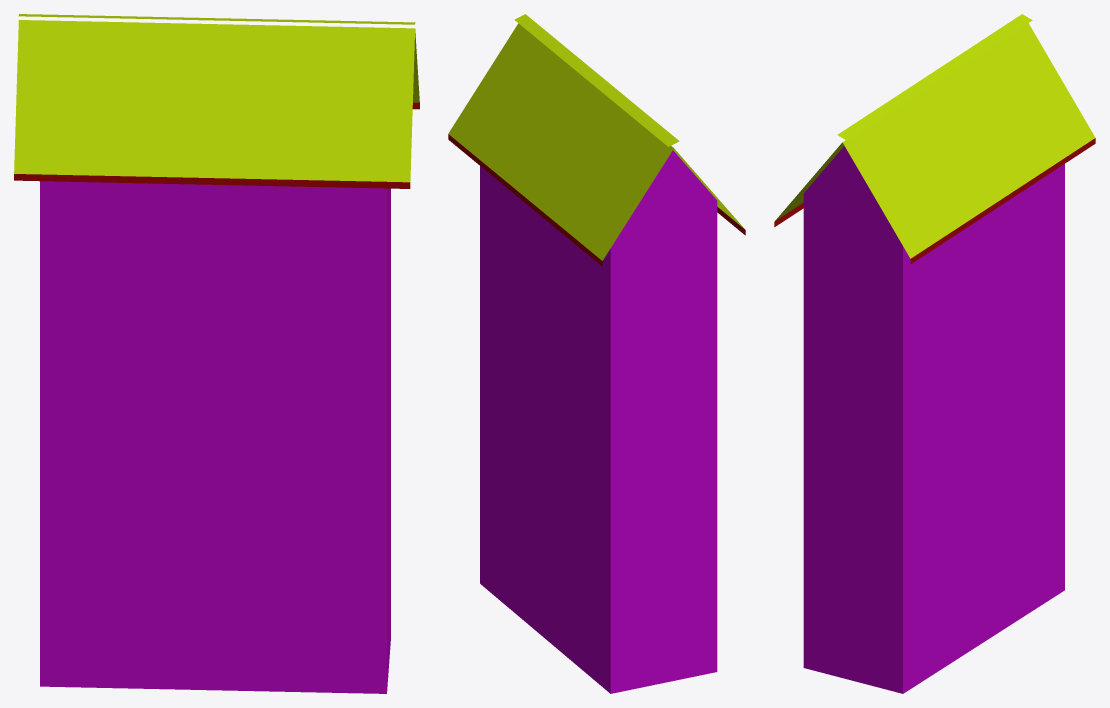
3 renders of one model, left to right at view 1: azimuth 30°, elevation 25°; view 2: azimuth 150°, elevation 25°; view 3: azimuth 270°, elevation 25°, orthographic. The views are drawn at different scales.
Visible parts, largest first — view 1: sc_122; view 2: sc_122; view 3: sc_122.
Boxes of the visible parts, x1,y1,x2,y2 form: sc_122: (14, 14, 419, 693); sc_122: (448, 14, 745, 693); sc_122: (774, 14, 1095, 693).
Size of the model in its own units: 7.04 by 11.47 by 6.04.
